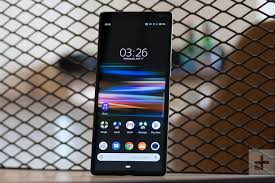sony: (88, 8, 173, 180)
